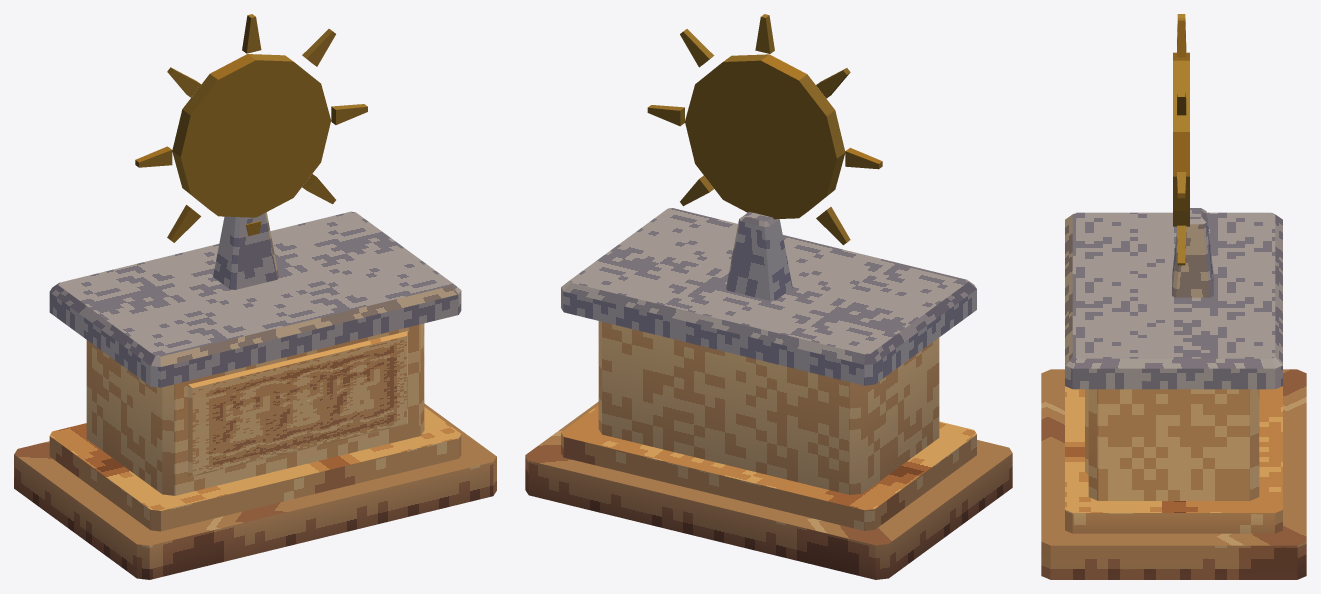
The model's file is relic.altar__sun.glb.
3 views of the same model, side by side, from view 1: azimuth 30°, elevation 25°; view 2: azimuth 150°, elevation 25°; view 3: azimuth 270°, elevation 25° (orthographic).
Visible parts, largest first — view 1: kit_top, kit_base, kit_relief, kit_disc, kit_block, kit_rays, kit_stand; view 2: kit_base, kit_top, kit_block, kit_disc, kit_stand, kit_rays; view 3: kit_top, kit_base, kit_block, kit_stand, kit_disc, kit_rays.
Part boxes in pixels (x1,y1,x2,y2): kit_top: (49,211,461,387); kit_base: (14,403,496,579); kit_relief: (188,331,407,477); kit_disc: (172,54,331,217); kit_block: (86,323,424,495); kit_rays: (135,14,367,242); kit_stand: (213,212,278,289); kit_base: (525,401,1012,579); kit_top: (561,208,976,385); kit_block: (598,321,939,494); kit_disc: (685,54,845,219); kit_stand: (726,212,792,300); kit_rays: (647,14,882,245); kit_top: (1065,212,1282,389); kit_base: (1041,369,1306,579); kit_block: (1088,389,1259,500); kit_stand: (1172,208,1213,297); kit_disc: (1173,52,1189,226); kit_rays: (1177,14,1186,265).
Bounding box in the file's own units: 2.2 × 2.75 × 1.4.
Materials: 5 (4 with a texture image).
